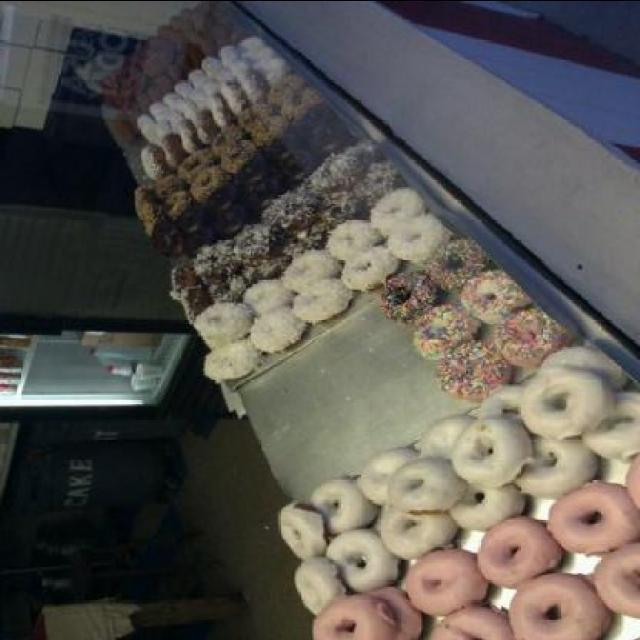Donuts: (101, 1, 640, 640)
